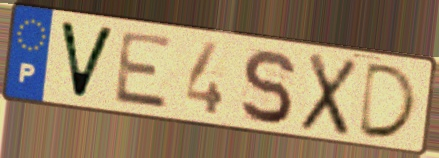4: (183, 38, 226, 120)
D: (354, 60, 421, 142)
E: (111, 29, 176, 112)
S: (238, 47, 297, 127)
V: (56, 17, 119, 103)
X: (297, 50, 361, 140)
